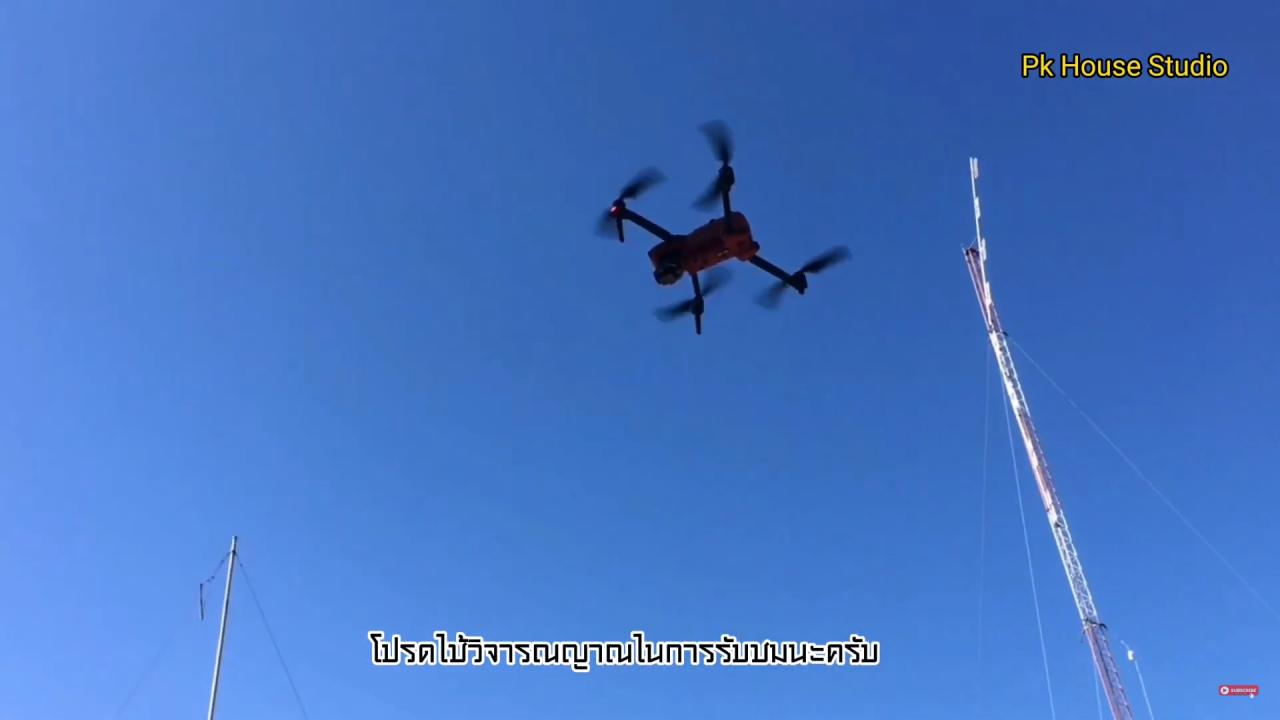Drone: (580, 105, 873, 350)
